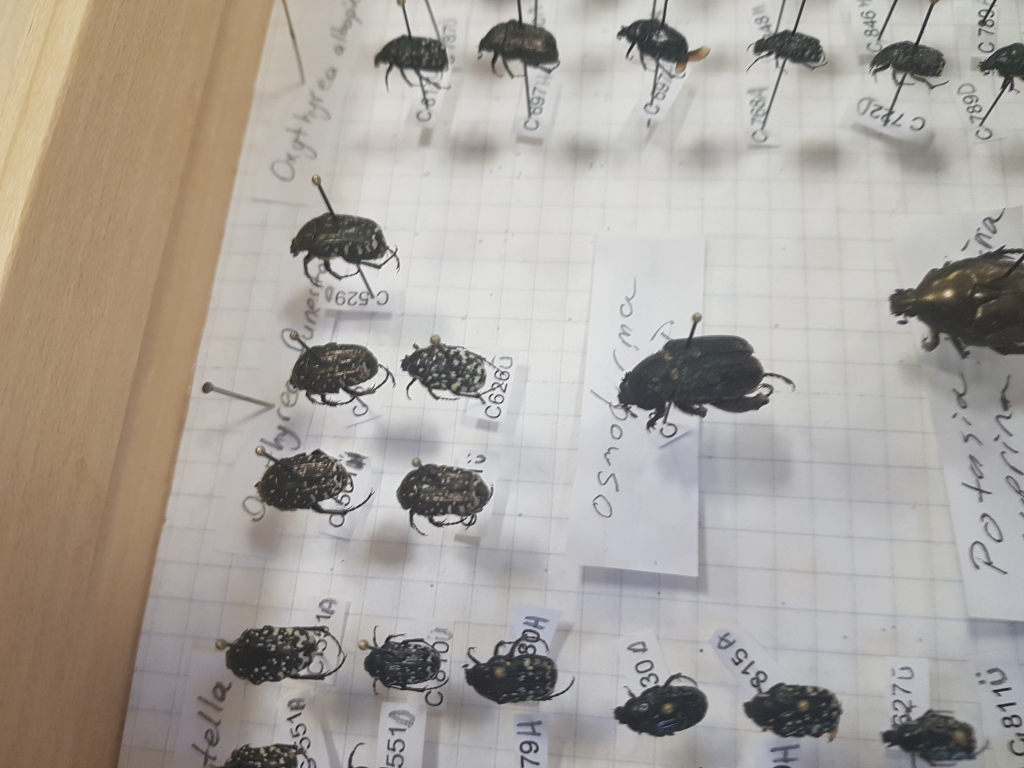Oxythyrea_funesta: (394, 340, 495, 406)
